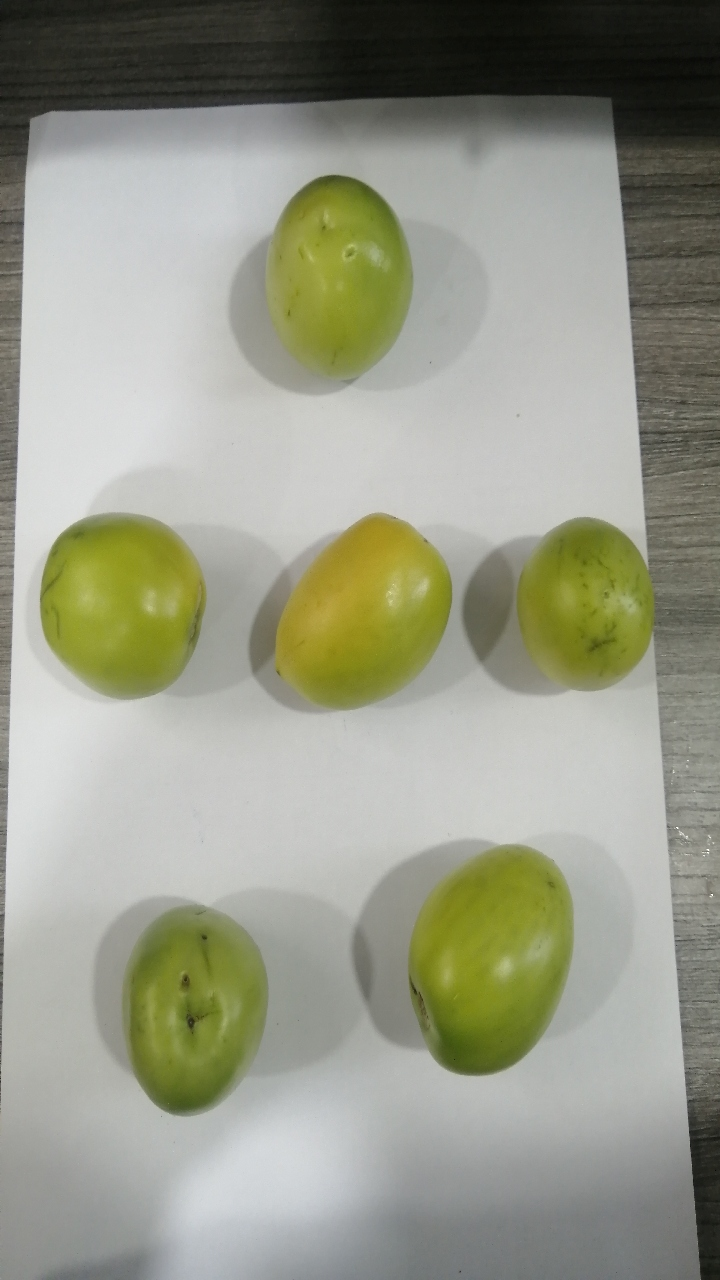tomateVerde: (371, 817, 588, 1089), (257, 488, 480, 734), (226, 152, 432, 405), (94, 882, 278, 1128), (494, 486, 668, 719), (26, 506, 215, 706)
